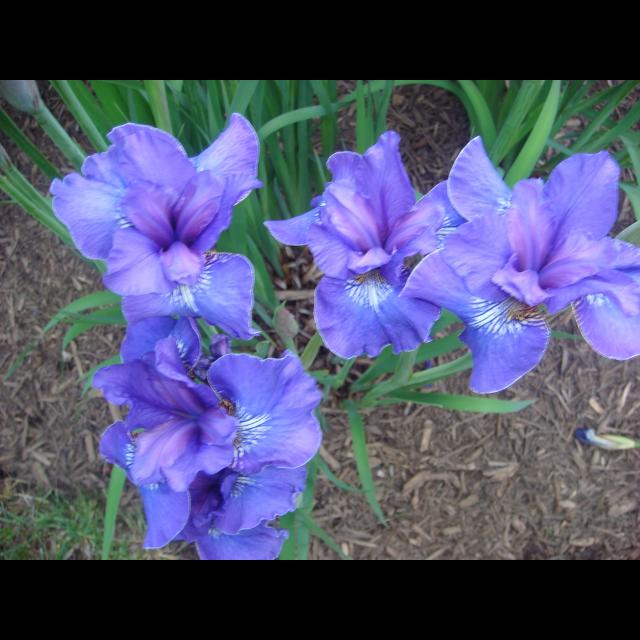Flower: (91, 350, 323, 560), (265, 128, 467, 358), (427, 147, 621, 371), (51, 116, 263, 296), (122, 252, 266, 371)
